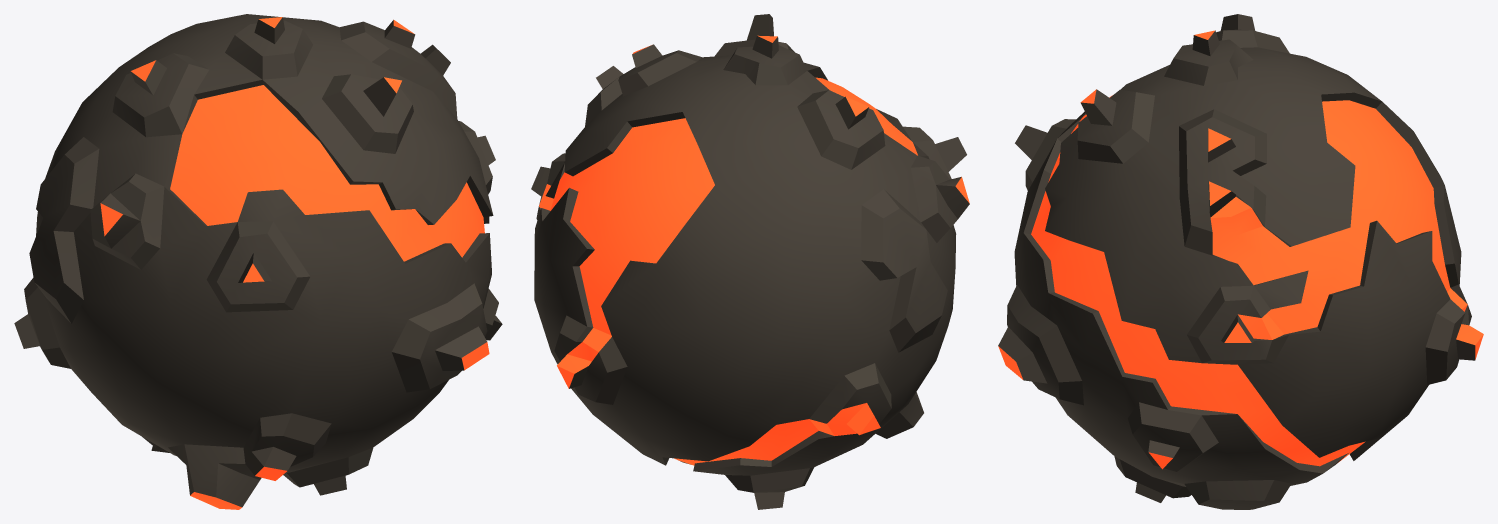
The model's file is planet-8.glb.
3 views of the same model, side by side, from view 1: azimuth 30°, elevation 25°; view 2: azimuth 150°, elevation 25°; view 3: azimuth 270°, elevation 25° (orthographic). The views are drawn at different scales.
Visible parts, largest first — view 1: Toy_Planet_3_Toy_Planets_0; view 2: Toy_Planet_3_Toy_Planets_0; view 3: Toy_Planet_3_Toy_Planets_0.
Boxes of the visible parts, x1,y1,x2,y2 form: Toy_Planet_3_Toy_Planets_0: [14, 14, 502, 509]; Toy_Planet_3_Toy_Planets_0: [531, 14, 969, 509]; Toy_Planet_3_Toy_Planets_0: [998, 14, 1483, 509].
Bounding box in the file's own units: 2.19 × 2.21 × 2.17.
1 material, 1 textured.
